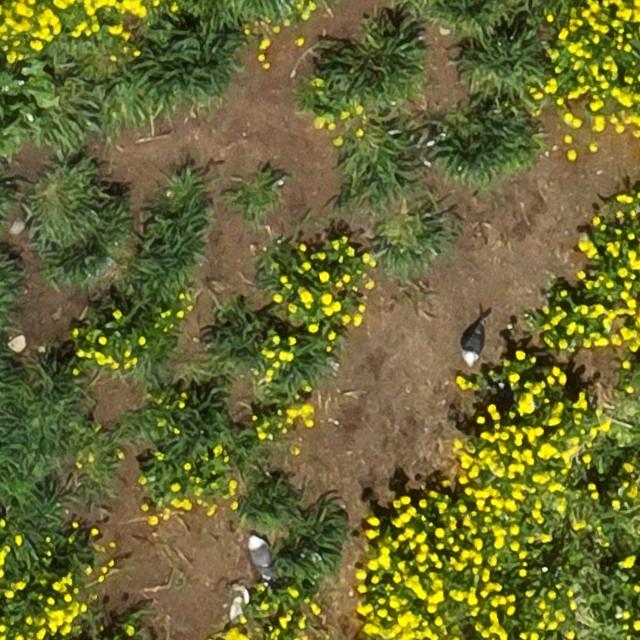umineko: (250, 537, 272, 573), (464, 324, 485, 360)
